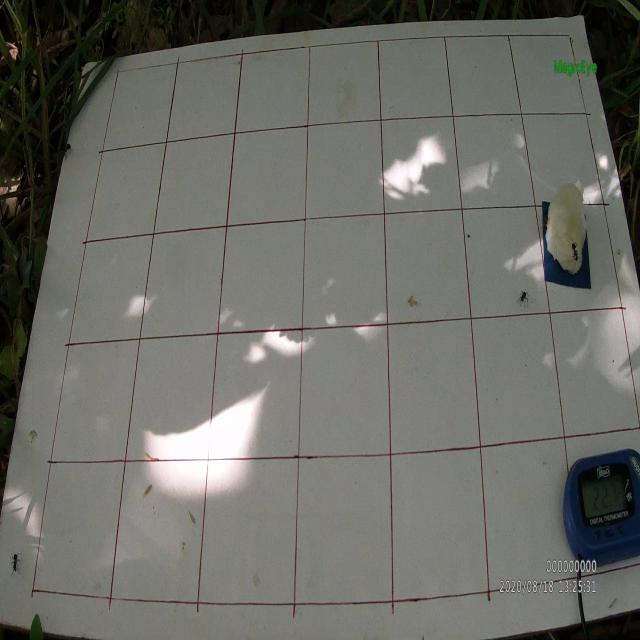Ant: (567, 238, 580, 264), (10, 552, 21, 578), (60, 142, 74, 162), (517, 288, 529, 308)
